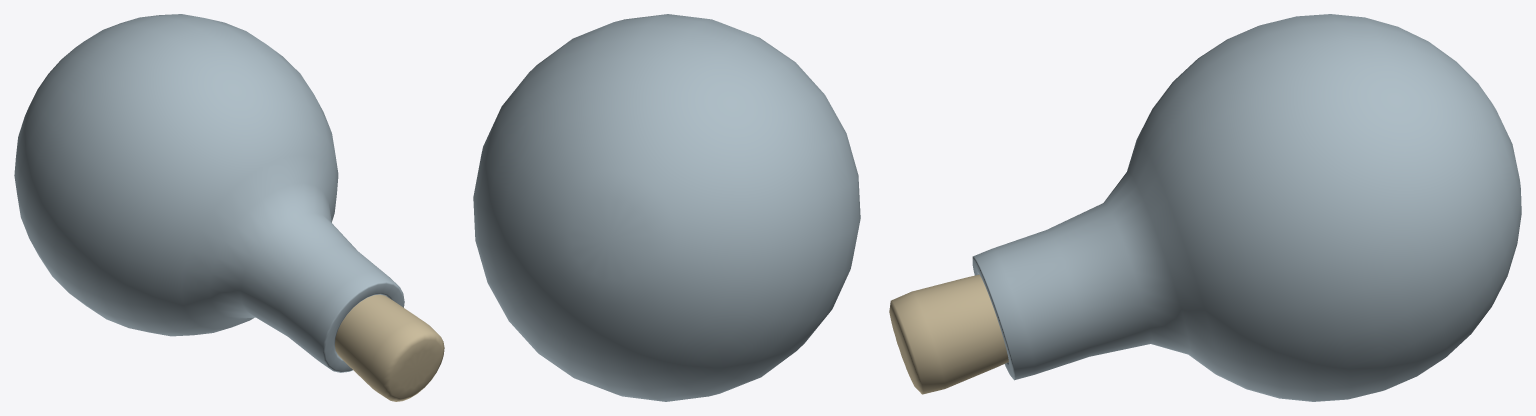
The model's file is ZhutTest.fbx.
The picture shows the model from 3 angles, left to right: view 1: azimuth 30°, elevation 25°; view 2: azimuth 150°, elevation 25°; view 3: azimuth 270°, elevation 25°; orthographic projection. The views are drawn at different scales.
Parts seen in each view (by area): view 1: C2; view 2: C2; view 3: C2.
Boxes of the visible parts, x1,y1,x2,y2 form: C2: (14,14,444,401); C2: (473,14,860,401); C2: (889,14,1521,401).
Size of the model in its own units: 0.8791 by 0.8737 by 1.43.
